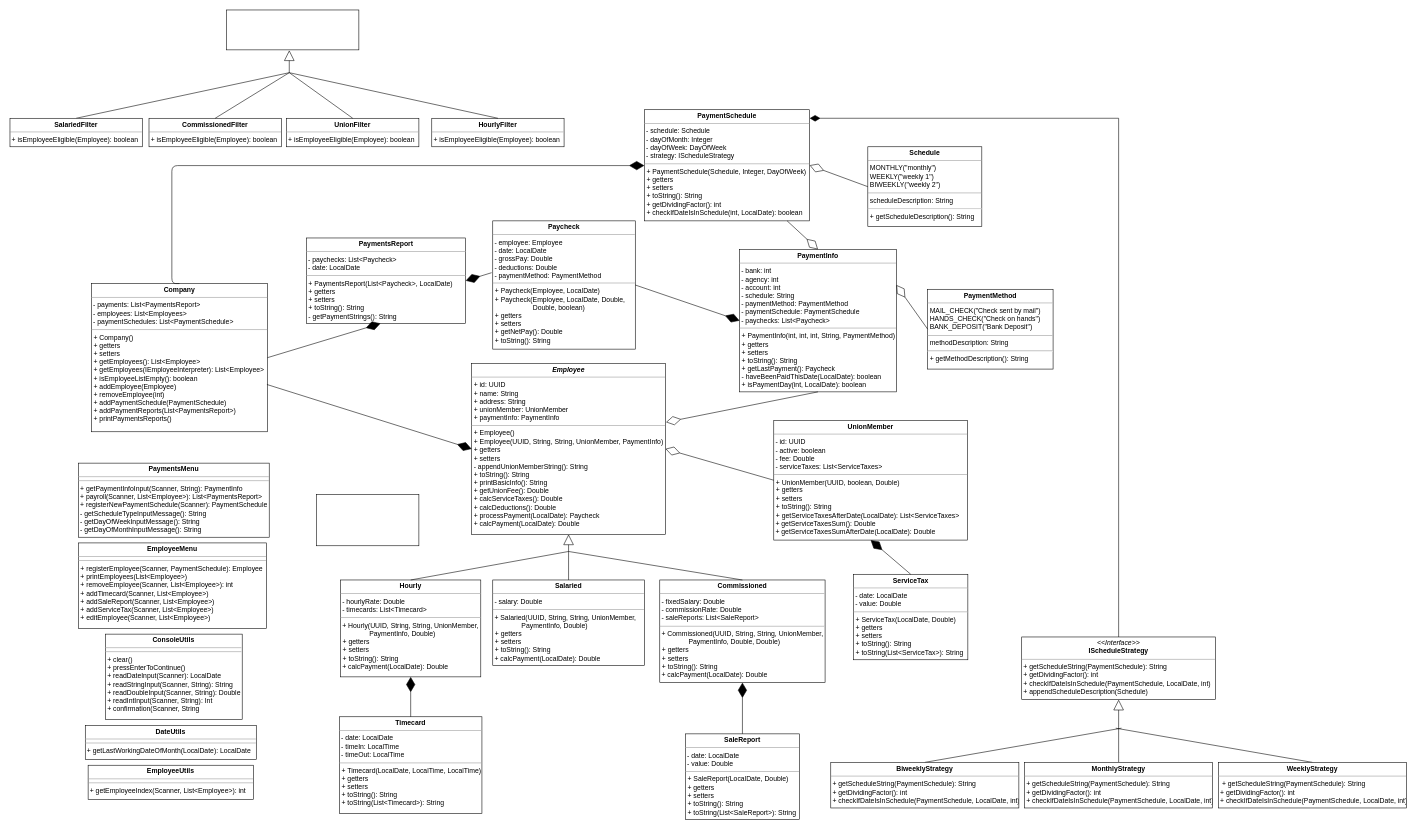
This 1416x829 diagram has some shape labels left out. Each missing label, with the centre of its shape:
"<<Interface>> IEmployeeInterpreter + isEmployeeEligible(Employee): boolean" belongs at pixel 292 29.
"PayrollApp + main() - saveState(Company): String - restoreState(String): Company" belongs at pixel 367 520.
